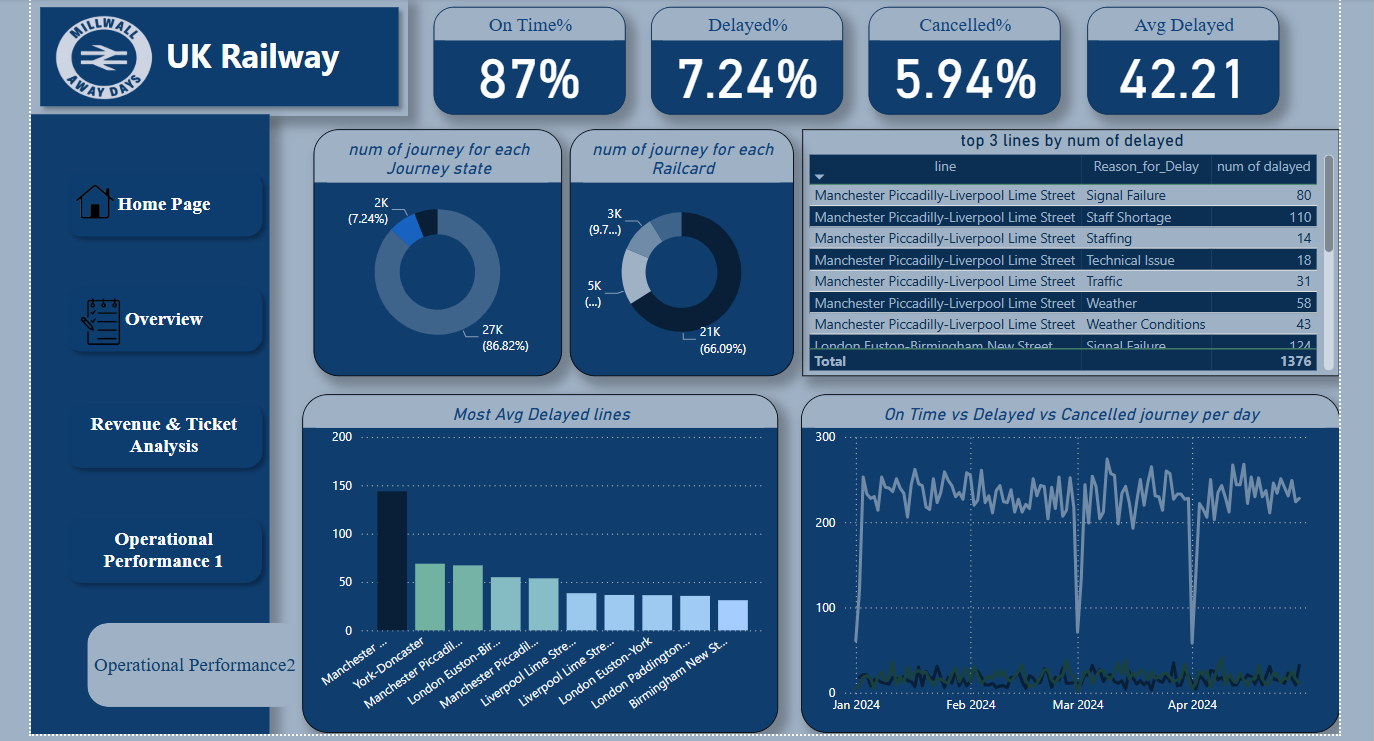

This screenshot's page, from the dashboard's own definition file:
{"tool":"powerbi","page":{"name":"Operational Performance 2","canvas":[1280,720],"ordinal":4},"visuals":[{"type":"shape","box":[0,0,368.7,114.9],"z":0},{"type":"shape","box":[0,113.4,233.5,606.4],"z":1000,"group":"g1"},{"type":"textbox","box":[127.6,29.4,251.5,71.2],"z":1000},{"type":"image","box":[17.5,6.2,108.8,107.5],"z":2000},{"type":"group","id":"g1","title":"Group 1","box":[0,113.4,265.7,606.4],"z":3000},{"type":"card","title":"On Time%","fields":{"Values":["my measures.on time %"]},"box":[394,9,188.1,106],"z":4000},{"type":"card","title":"Delayed%","fields":{"Values":["my measures.Delayed%"]},"box":[607,9,188.1,106],"z":5000},{"type":"card","title":"Cancelled%","fields":{"Values":["my measures.canceled %"]},"box":[819.9,9,188.1,106],"z":6000},{"type":"shape","box":[24.1,385.6,211,82.2],"z":6000,"group":"g1"},{"type":"shape","box":[24.4,498.5,210.4,82.1],"z":7000},{"type":"card","title":"Avg Delayed","fields":{"Values":["my measures.Avg_Arrival_Delay"]},"box":[1032.8,9,188.1,106],"z":8000},{"type":"shape","box":[55.2,611.3,210.4,82.1],"z":8000,"group":"g1"},{"type":"lineChart","title":"On Time vs Delayed vs Cancelled journey per day","fields":{"Y":["my measures.num of on time","my measures.num of Cancelled","my measures.num of dalayed"],"Category":["clean_railway.Date_of_Journey.Variation.Date Hierarchy.Year","clean_railway.Date_of_Journey.Variation.Date Hierarchy.Month","clean_railway.Date_of_Journey.Variation.Date Hierarchy.Day"]},"box":[753.7,388.1,526.9,331.3],"z":9000},{"type":"tableEx","title":"top 3 lines by num of delayed","fields":{"Values":["clean_railway.line","clean_railway.Reason_for_Delay","my measures.num of dalayed"]},"box":[754.4,128.5,525.8,242],"z":10000},{"type":"donutChart","title":"num of journey for each Journey state","fields":{"Y":["Table.num"],"Category":["clean_railway.Journey_Status"]},"box":[276.1,127.9,243.3,241.8],"z":11000},{"type":"donutChart","title":"num of journey for each Railcard","fields":{"Y":["Table.num"],"Category":["clean_railway.Railcard"]},"box":[526.9,127.9,219.4,241.8],"z":12000},{"type":"shape","box":[24.1,272.8,211,82.2],"z":13000,"group":"g1"},{"type":"columnChart","title":"Most Avg Delayed lines","fields":{"Category":["clean_railway.line"],"Y":["my measures.Avg_Arrival_Delay"]},"box":[265.7,388.1,465.7,331.3],"z":13000},{"type":"shape","box":[24.1,159.9,211,82.2],"z":14000,"group":"g1"},{"type":"image","box":[40.3,286.5,55.2,58.2],"z":15000,"group":"g1"},{"type":"image","box":[35.8,173.1,56.7,52.2],"z":15502,"group":"g1"}]}

Visuals, with their boxes on the page's 1280x720 design canvas (x1, y1, x2, y2). These are canvas units, not pixel positions in the 1374x741 screenshot, which may show the page scaled, cropped or inside an application window:
shape: x1=0, y1=0, x2=369, y2=115
shape: x1=0, y1=113, x2=234, y2=720
textbox: x1=128, y1=29, x2=379, y2=101
image: x1=18, y1=6, x2=126, y2=114
"Group 1" group: x1=0, y1=113, x2=266, y2=720
"On Time%" card: x1=394, y1=9, x2=582, y2=115
"Delayed%" card: x1=607, y1=9, x2=795, y2=115
"Cancelled%" card: x1=820, y1=9, x2=1008, y2=115
shape: x1=24, y1=386, x2=235, y2=468
shape: x1=24, y1=498, x2=235, y2=581
"Avg Delayed" card: x1=1033, y1=9, x2=1221, y2=115
shape: x1=55, y1=611, x2=266, y2=693
"On Time vs Delayed vs Cancelled journey per day" lineChart: x1=754, y1=388, x2=1281, y2=719
"top 3 lines by num of delayed" tableEx: x1=754, y1=128, x2=1280, y2=370
"num of journey for each Journey state" donutChart: x1=276, y1=128, x2=519, y2=370
"num of journey for each Railcard" donutChart: x1=527, y1=128, x2=746, y2=370
shape: x1=24, y1=273, x2=235, y2=355
"Most Avg Delayed lines" columnChart: x1=266, y1=388, x2=731, y2=719
shape: x1=24, y1=160, x2=235, y2=242
image: x1=40, y1=286, x2=96, y2=345
image: x1=36, y1=173, x2=92, y2=225
